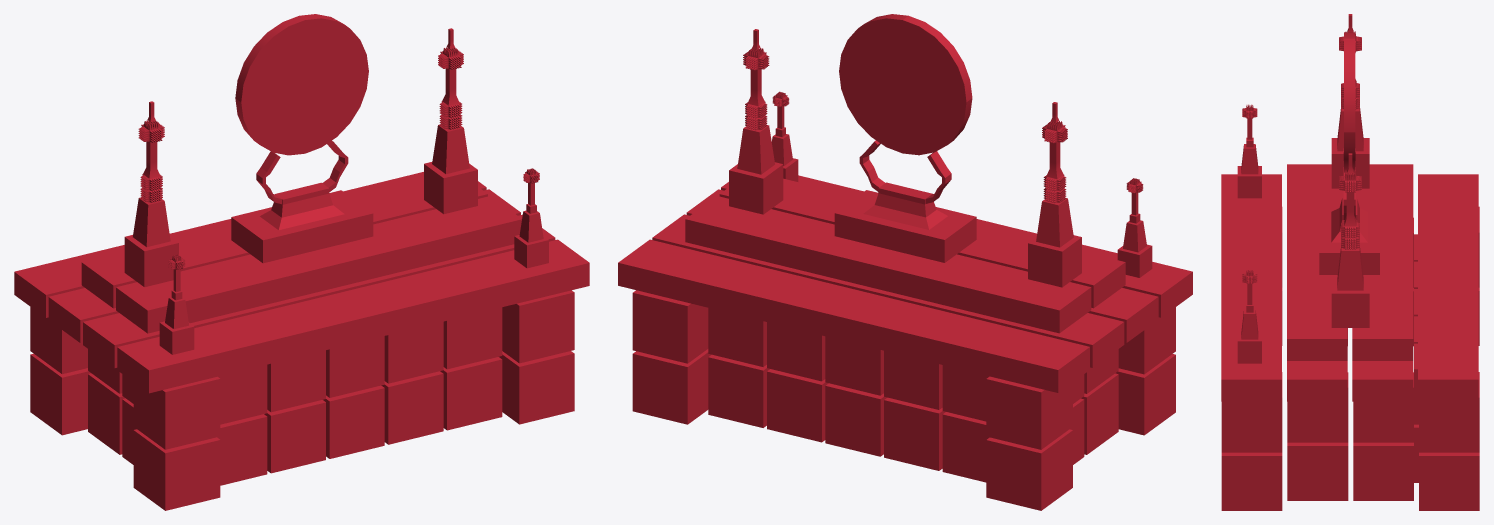
Rendered from KINETIKA_AUTEL_DESTRUCTIBLE_1.FBX.
3 views of the same model, side by side, from view 1: azimuth 30°, elevation 25°; view 2: azimuth 150°, elevation 25°; view 3: azimuth 270°, elevation 25° (orthographic). The views are drawn at different scales.
Parts seen in each view (by area): view 1: Box347, Box352, Box353, Box351, Box303, Box344, Box312, Box348, Box334, Cylinder004, Box350, Box323 (+24 smaller); view 2: Box350, Box351, Box353, Box352, Box306, Box349, Box333, Box315, Box340, Cylinder004, Box329, Box327 (+23 smaller); view 3: Box350, Box347, Box351, Box352, Box313, Box312, Box314, Box315, Box353, Box334, Box340, Box346 (+16 smaller).
Boxes of the visible parts, x1=… form: Box347: x1=117, y1=239, x2=589, y2=393; Box352: x1=116, y1=196, x2=521, y2=333; Box353: x1=231, y1=140, x2=373, y2=263; Box351: x1=81, y1=178, x2=487, y2=308; Box303: x1=133, y1=429, x2=220, y2=510; Box344: x1=133, y1=376, x2=220, y2=449; Box312: x1=499, y1=351, x2=574, y2=424; Box348: x1=83, y1=214, x2=555, y2=368; Box334: x1=502, y1=290, x2=574, y2=363; Cylinder004: x1=235, y1=16, x2=304, y2=102; Box350: x1=14, y1=172, x2=486, y2=317; Box323: x1=381, y1=371, x2=443, y2=444; Box350: x1=618, y1=239, x2=1089, y2=392; Box351: x1=685, y1=196, x2=1091, y2=333; Box353: x1=834, y1=140, x2=976, y2=262; Box352: x1=719, y1=178, x2=1125, y2=308; Box306: x1=986, y1=429, x2=1072, y2=510; Box349: x1=652, y1=214, x2=1124, y2=367; Box333: x1=986, y1=376, x2=1072, y2=449; Box315: x1=632, y1=349, x2=711, y2=424; Box340: x1=632, y1=290, x2=708, y2=363; Cylinder004: x1=902, y1=16, x2=972, y2=102; Box329: x1=825, y1=383, x2=887, y2=456; Box327: x1=884, y1=397, x2=945, y2=470; Box350: x1=1418, y1=174, x2=1478, y2=401; Box347: x1=1221, y1=174, x2=1281, y2=401; Box351: x1=1352, y1=164, x2=1413, y2=360; Box352: x1=1287, y1=164, x2=1347, y2=360; Box313: x1=1287, y1=442, x2=1348, y2=500; Box312: x1=1221, y1=452, x2=1282, y2=510; Box314: x1=1353, y1=442, x2=1413, y2=500; Box315: x1=1419, y1=452, x2=1479, y2=510; Box353: x1=1319, y1=148, x2=1379, y2=274; Box334: x1=1221, y1=372, x2=1282, y2=452; Box340: x1=1419, y1=372, x2=1479, y2=452; Box346: x1=1287, y1=372, x2=1348, y2=442.
Size of the model in its own units: 20 by 17.09 by 10.63.
